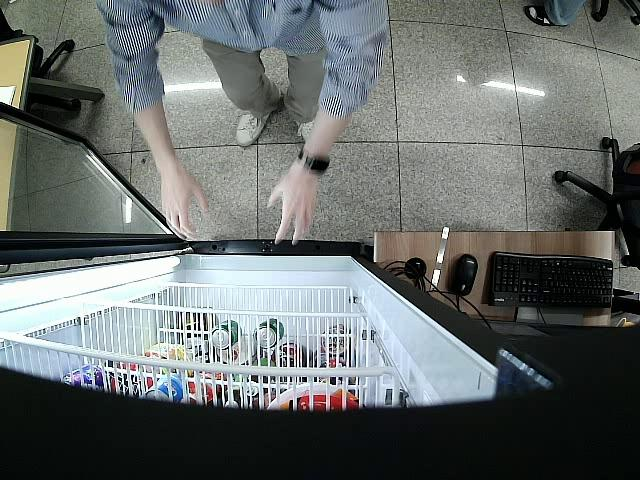00_hand: (265, 173, 319, 247), (159, 162, 209, 236)
